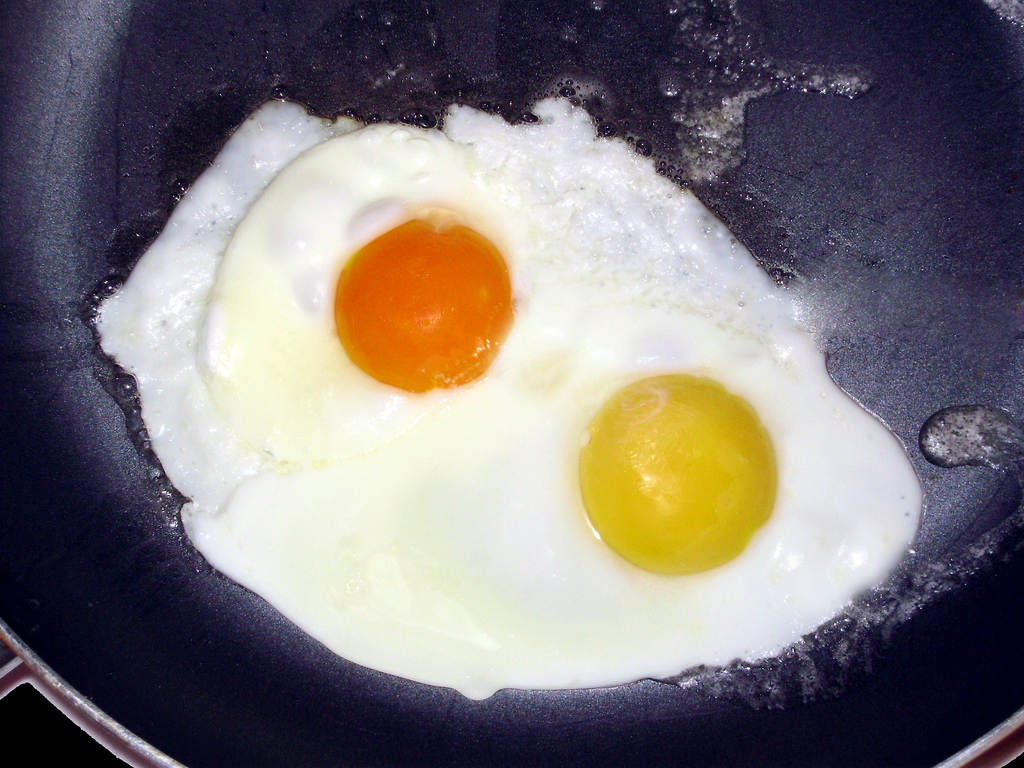fried egg: (135, 124, 930, 724)
